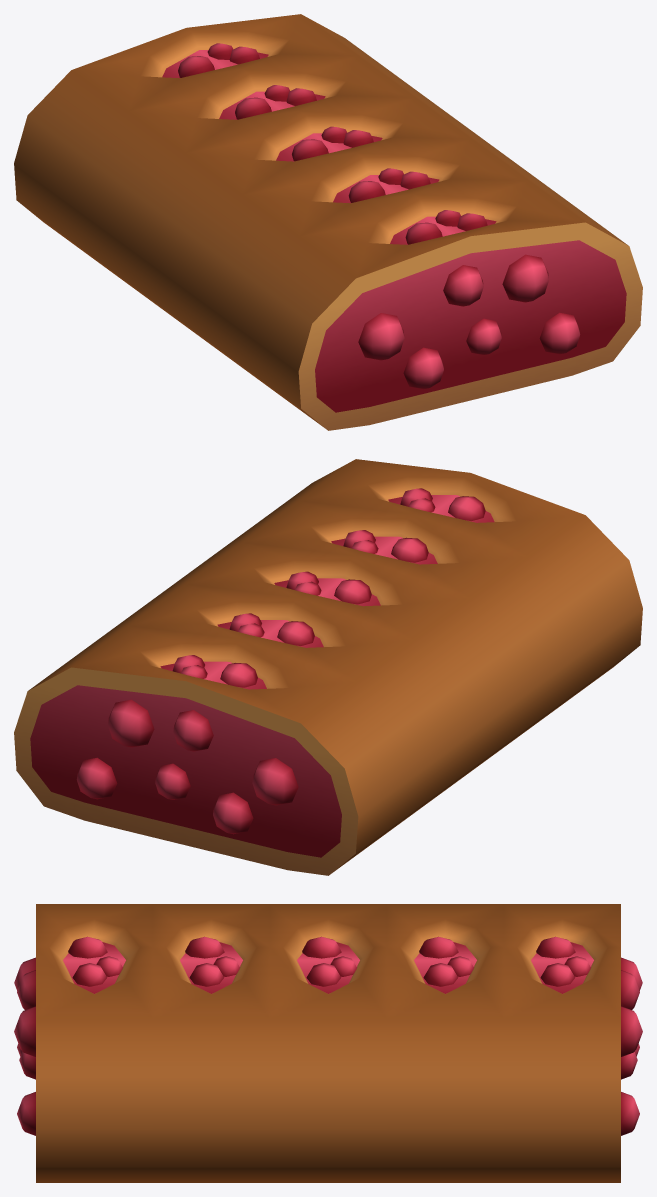
Rendered from m_CherryStrudel01.fbx.
3 renders of one model, top to bottom at view 1: azimuth 30°, elevation 25°; view 2: azimuth 150°, elevation 25°; view 3: azimuth 270°, elevation 25°, orthographic. The views are drawn at different scales.
Visible parts, largest first — view 1: m_CherryStrudel01; view 2: m_CherryStrudel01; view 3: m_CherryStrudel01.
Boxes of the visible parts, <box> form: m_CherryStrudel01: <box>14,14,642,430</box>; m_CherryStrudel01: <box>14,459,642,875</box>; m_CherryStrudel01: <box>14,904,642,1182</box>.
Bounding box in the file's own units: 13.97 × 6.37 × 21.5.
